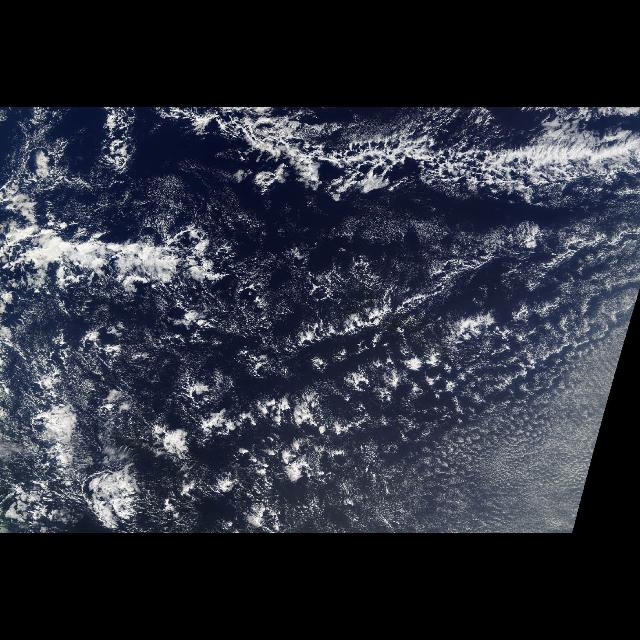Fish: (356, 326, 622, 532), (175, 110, 640, 216), (2, 218, 258, 310)
Gravel: (290, 249, 592, 453)
Sugar: (383, 314, 631, 530)
